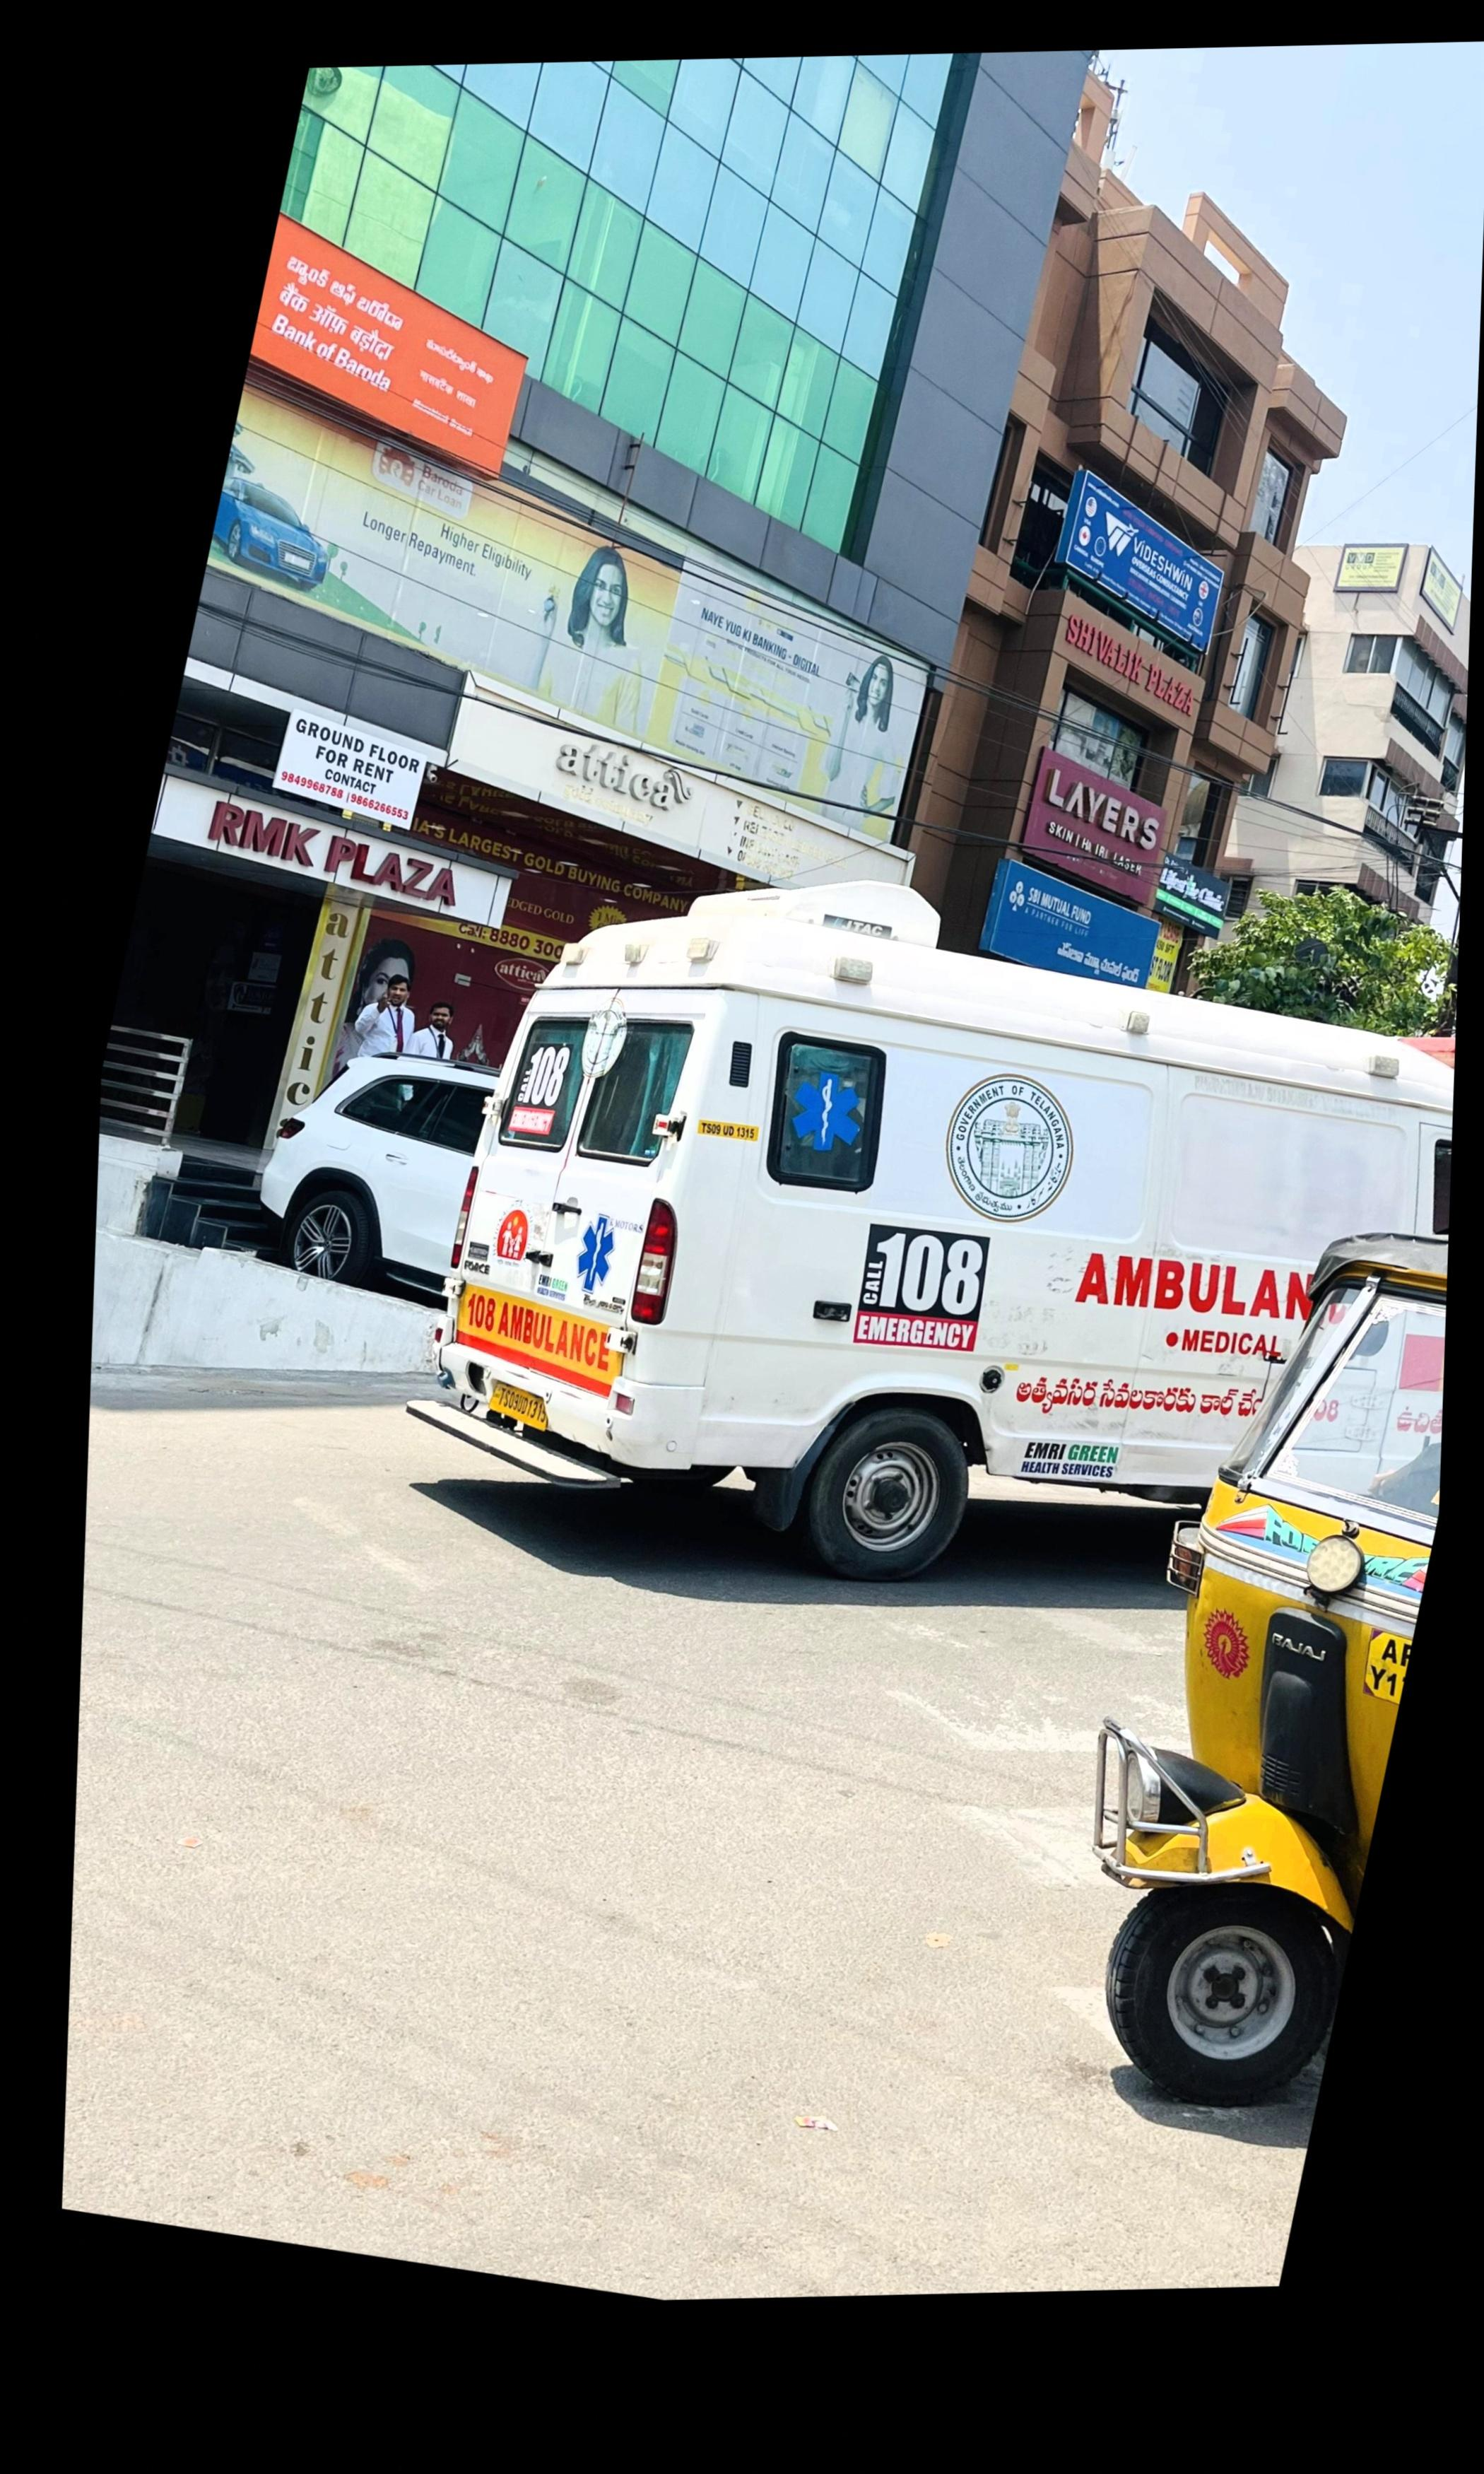ambulance: (442, 871, 1452, 1569)
